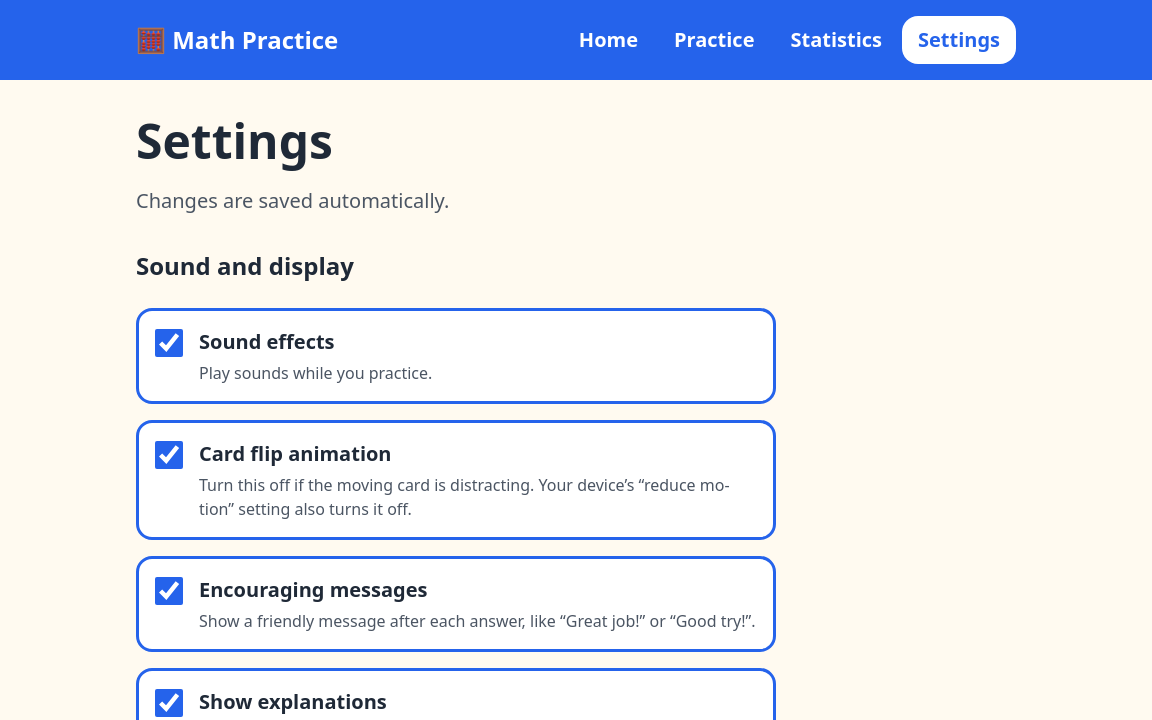
Test: SettingsPage › saves the Show explanations setting automatically
Click the checkbox labelled "Show explanations" at x=169, y=703, box [155, 689, 183, 717]
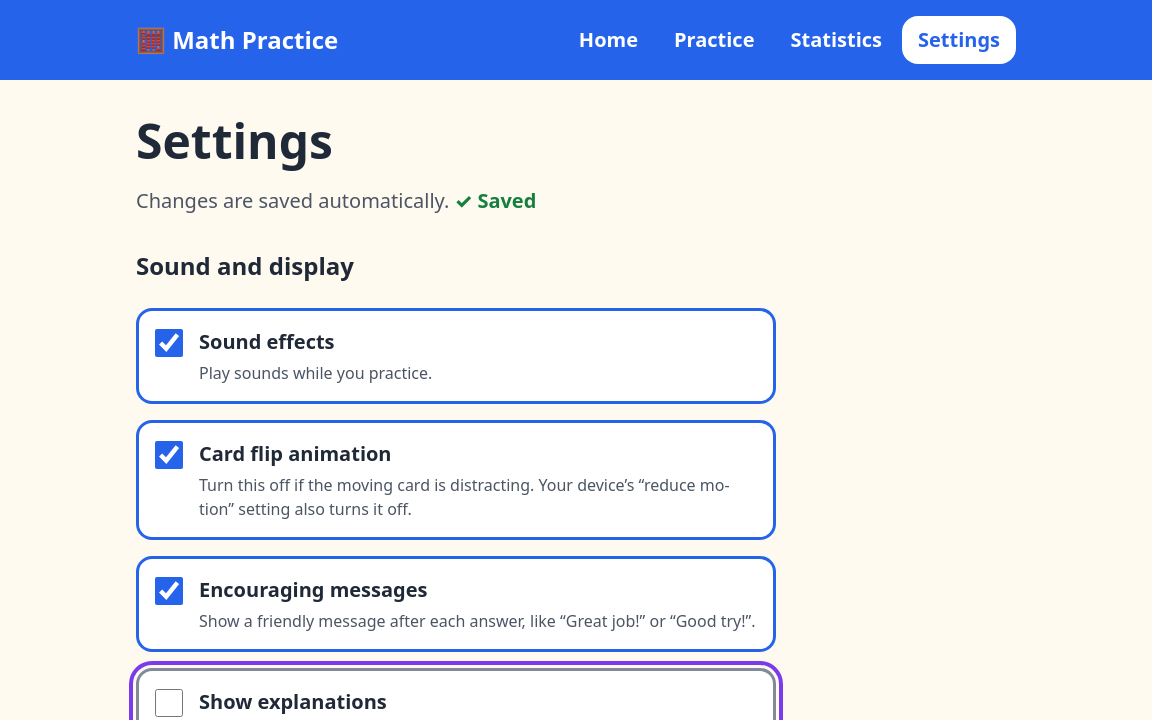
Expected: the checkbox labelled "Show explanations" is not checked, [155, 689, 183, 717]
Expected: the message shows "Saved", [454, 187, 536, 214]
